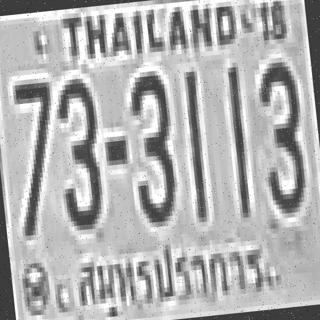N01: (223, 64, 252, 216), (180, 67, 209, 218)
N03: (51, 73, 105, 227), (253, 56, 307, 210), (124, 70, 178, 224)
N07: (8, 77, 63, 236)
P57: (74, 231, 268, 311)
